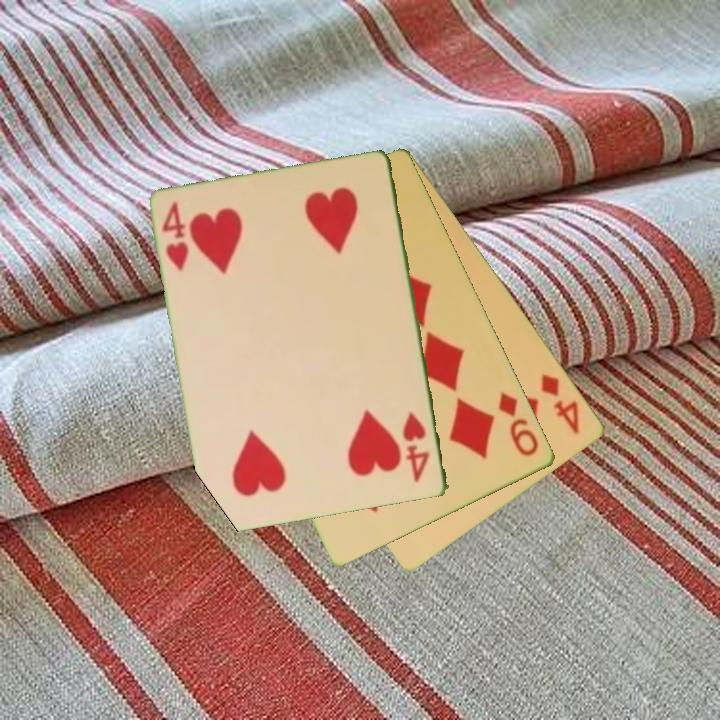4d: (537, 370, 583, 438)
4h: (400, 409, 433, 486), (159, 198, 192, 275)
9d: (495, 388, 542, 460)
